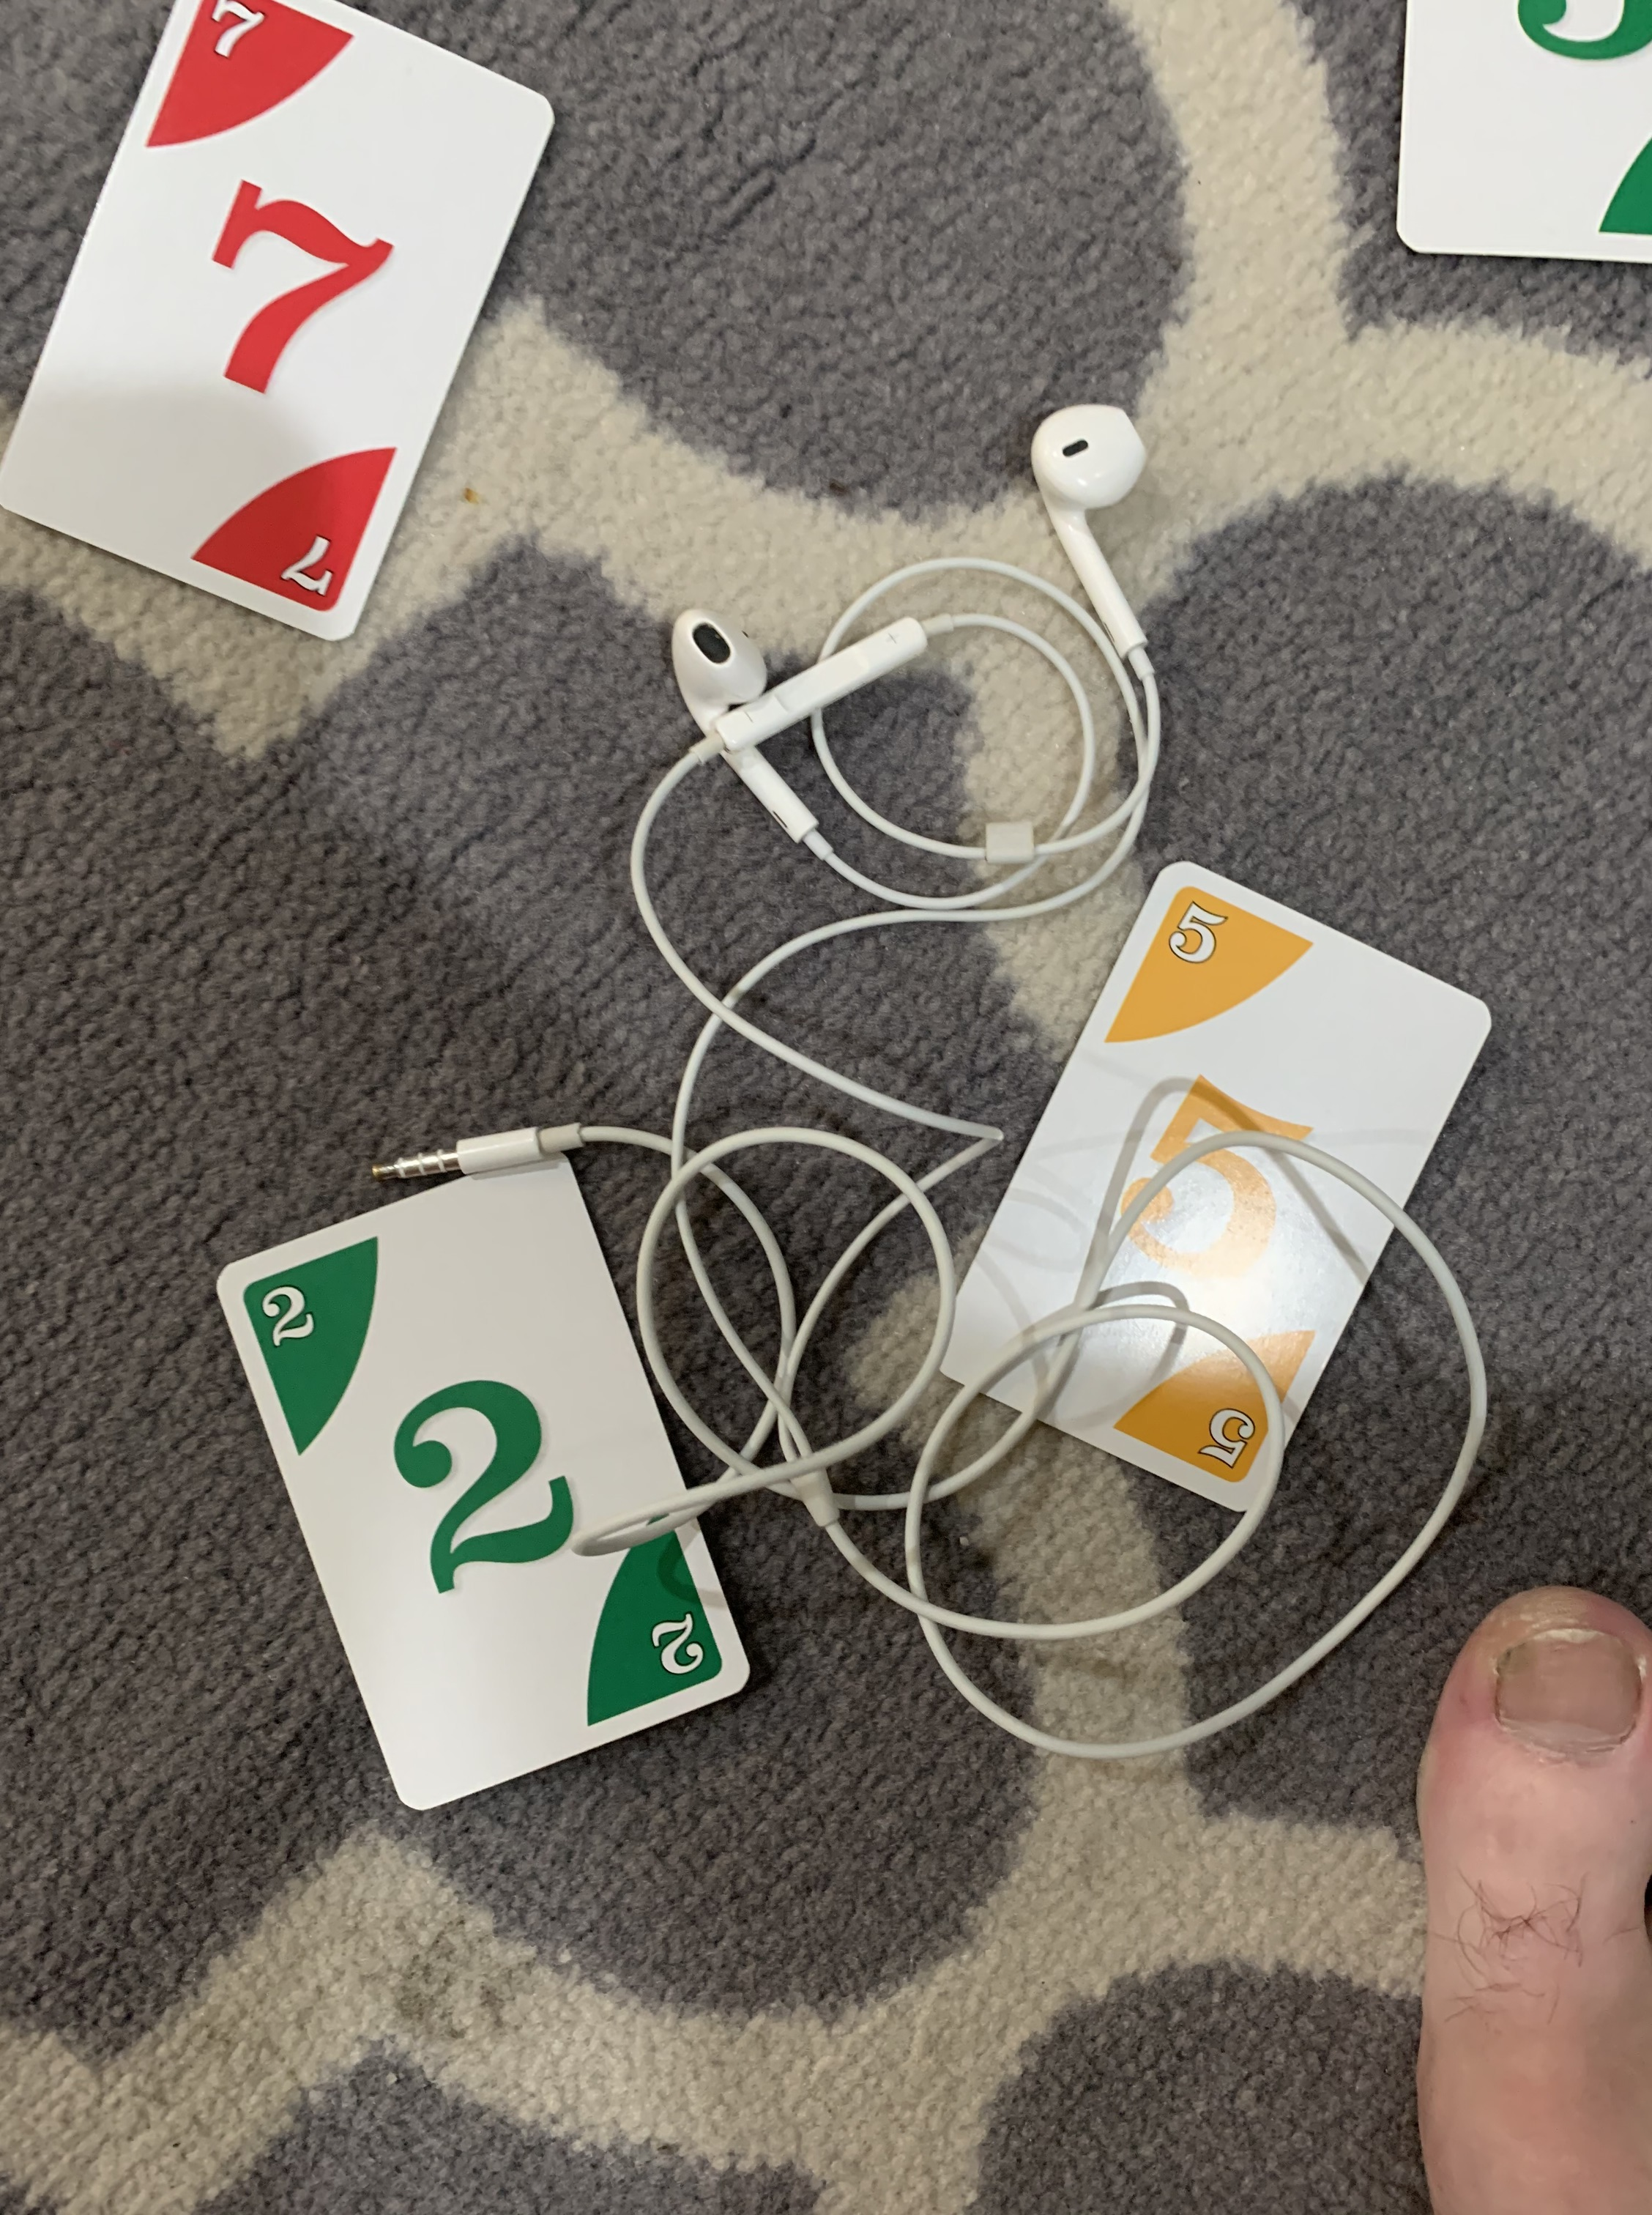five: (927, 840, 1506, 1522)
seven: (0, 17, 569, 665)
two: (189, 1140, 762, 1824)
